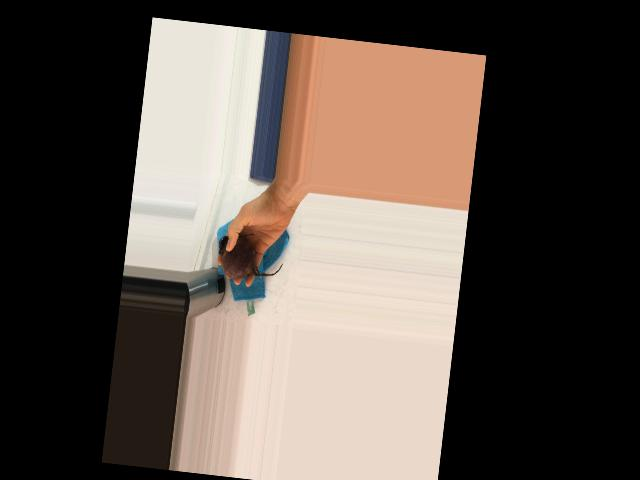beet: (215, 231, 285, 284)
